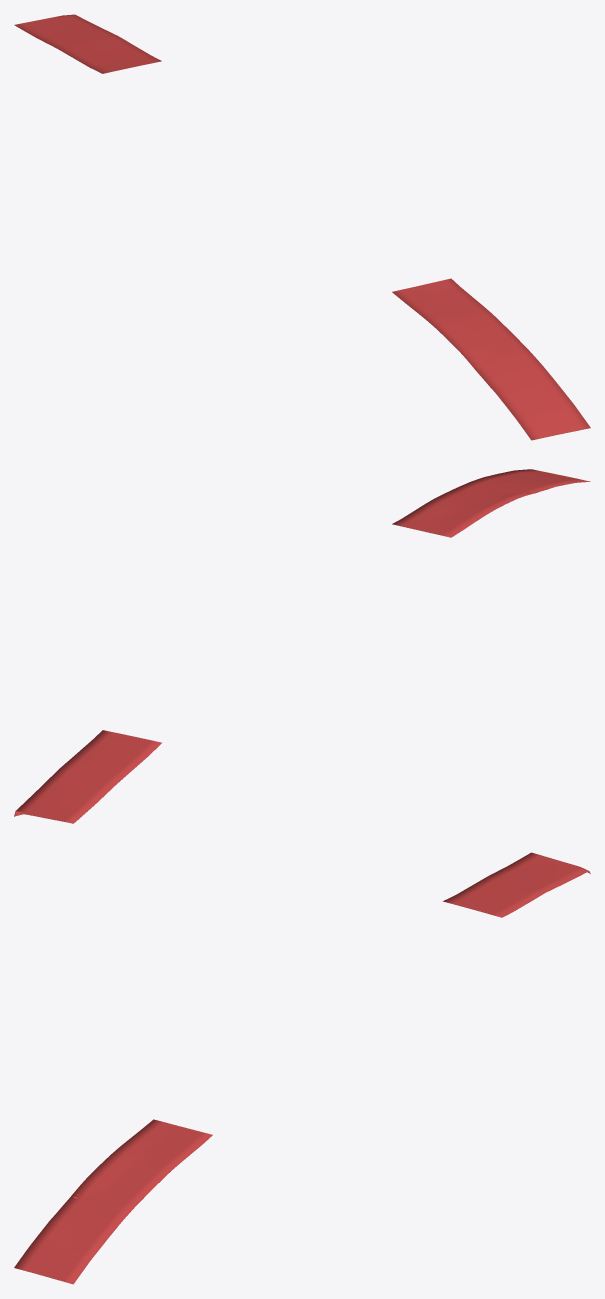
File: DT69_offset_stripe_red.glb
3 renders of one model, top to bottom at view 1: azimuth 30°, elevation 25°; view 2: azimuth 150°, elevation 25°; view 3: azimuth 330°, elevation 25°, orthographic.
Parts seen in each view (by area): view 1: MOD_NA_DT69_bonnet, MOD_NA_DT69_boot; view 2: MOD_NA_DT69_boot, MOD_NA_DT69_bonnet; view 3: MOD_NA_DT69_bonnet, MOD_NA_DT69_boot.
Part boxes in pixels (x1=…): MOD_NA_DT69_bonnet: x1=392, y1=278, x2=590, y2=440; MOD_NA_DT69_boot: x1=14, y1=14, x2=161, y2=73; MOD_NA_DT69_boot: x1=14, y1=730, x2=161, y2=823; MOD_NA_DT69_bonnet: x1=392, y1=469, x2=590, y2=537; MOD_NA_DT69_bonnet: x1=14, y1=1119, x2=212, y2=1284; MOD_NA_DT69_boot: x1=443, y1=852, x2=590, y2=917.
Bounding box in the file's own units: 0.2401 × 0.2116 × 3.62.
